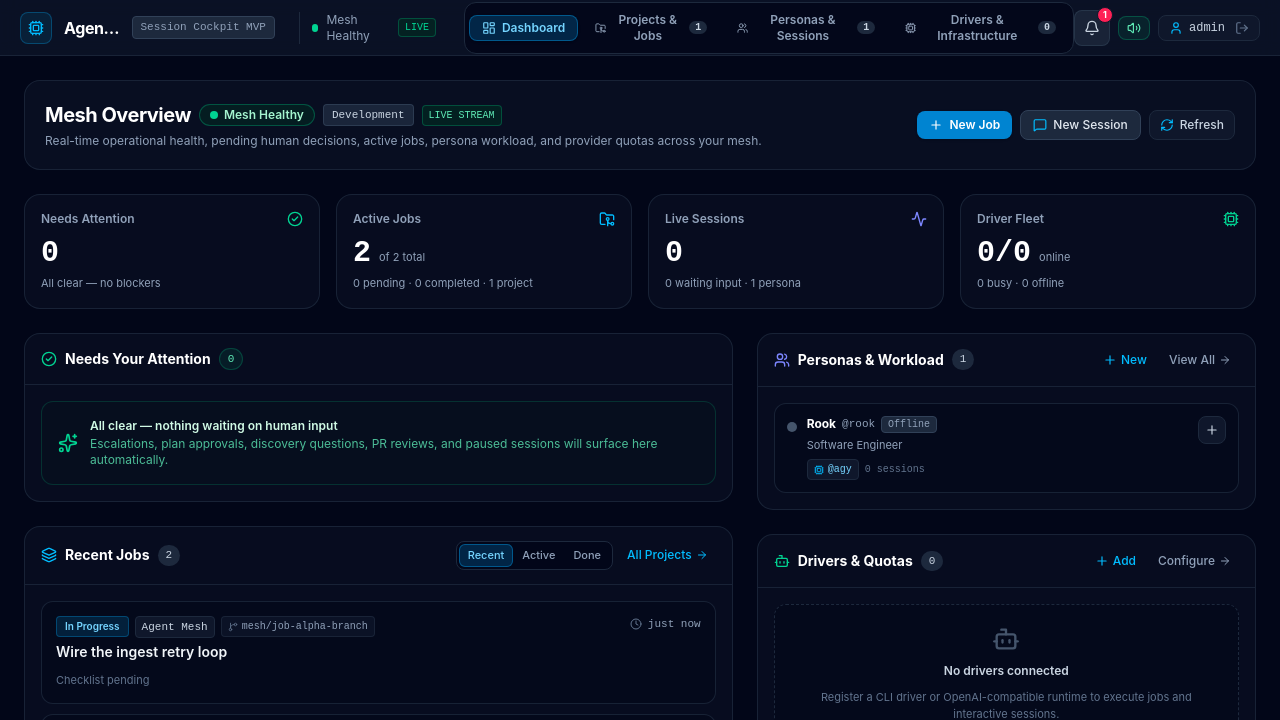
Test: Attention wiring in App › lights the badge the moment AttentionNeeded arrives, with no reload
The width and height of the screenshot is (1280, 720).
Check: the text with test id "attention-badge" reads "1", box top-left (1103, 9), bottom-right (1107, 20)
What coordinates should you click on to do the following:
click the button with test id "attention-bell-button"
I would click on:
 (1092, 28)
Its box is top-left (1074, 10), bottom-right (1110, 46).
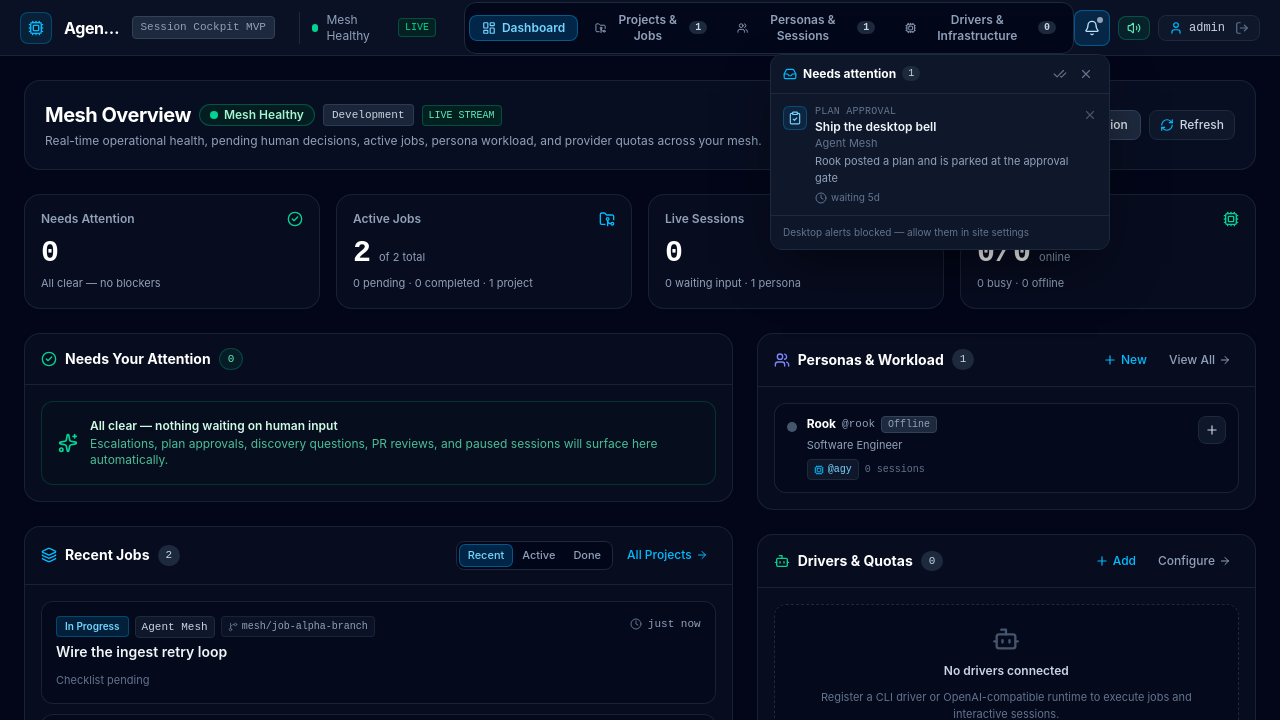
Check: the list item with test id "attention-row-job-beta:planApproval" is shown, box top-left (771, 94), bottom-right (1109, 215)
